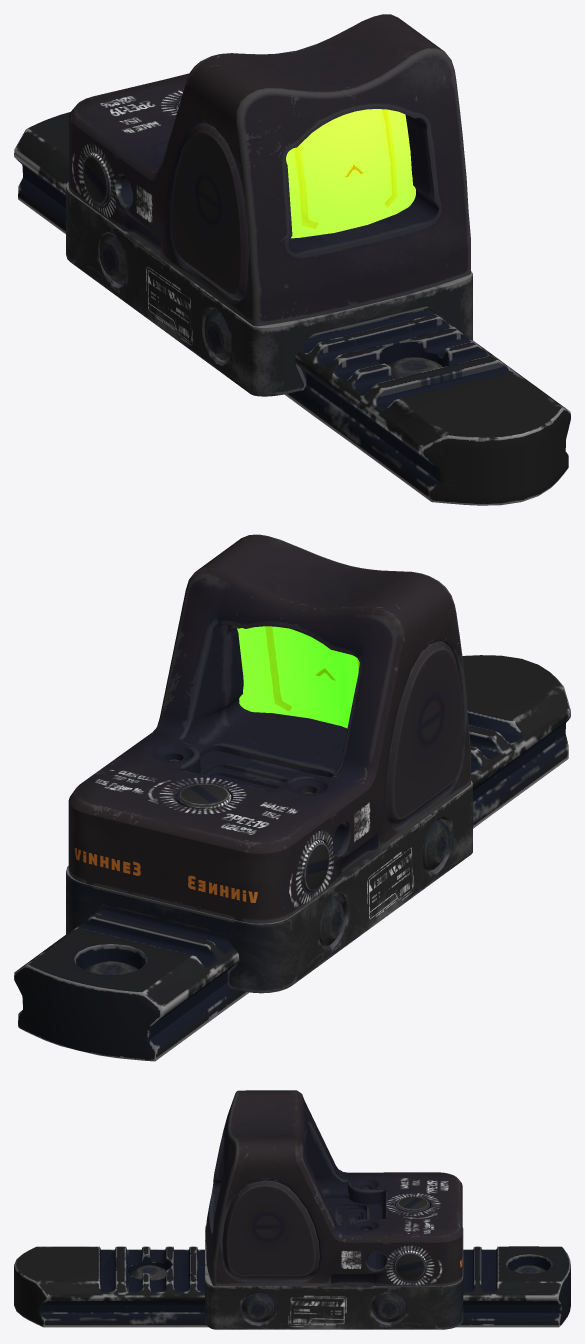
Rendered from free_pbr_holo_sight_optics._cheerr.glb.
The picture shows the model from 3 angles, top to bottom: view 1: azimuth 30°, elevation 25°; view 2: azimuth 150°, elevation 25°; view 3: azimuth 270°, elevation 25°; orthographic projection. The views are drawn at different scales.
Visible parts, largest first — view 1: base_low, rail_low, polySurface1, glass, base_dtail_low, button_low, oc_low4, oc_low1, oc_low2; view 2: base_low, rail_low, polySurface1, base_dtail_low, glass, button_low, button_low1, oc_low1, oc_low4; view 3: base_low, rail_low, polySurface1, base_dtail_low, button_low, oc_low1, oc_low4, button_low1, oc_low2.
Part boxes in pixels (x1,y1,x2,y2): base_low: [68, 14, 470, 326]; rail_low: [14, 112, 570, 505]; polySurface1: [66, 182, 472, 396]; glass: [286, 109, 415, 238]; base_dtail_low: [171, 123, 247, 300]; button_low: [82, 153, 111, 205]; oc_low4: [99, 233, 127, 283]; oc_low1: [204, 309, 231, 360]; oc_low2: [388, 357, 442, 378]; base_low: [68, 534, 470, 923]; rail_low: [14, 655, 570, 1061]; polySurface1: [66, 781, 472, 993]; base_dtail_low: [386, 641, 463, 826]; glass: [237, 626, 359, 728]; button_low: [300, 840, 329, 892]; button_low1: [177, 784, 231, 808]; oc_low1: [422, 819, 448, 870]; oc_low4: [319, 895, 343, 946]; base_low: [206, 1090, 462, 1286]; rail_low: [14, 1246, 570, 1327]; polySurface1: [205, 1225, 463, 1329]; base_dtail_low: [222, 1180, 319, 1279]; button_low: [393, 1250, 426, 1281]; oc_low1: [242, 1292, 275, 1322]; oc_low4: [372, 1293, 405, 1321]; button_low1: [396, 1196, 429, 1212]; oc_low2: [130, 1265, 166, 1280].
Size of the model in its own units: 0.0351 by 0.044 by 0.1176.
Materials: 1 (1 with a texture image).
